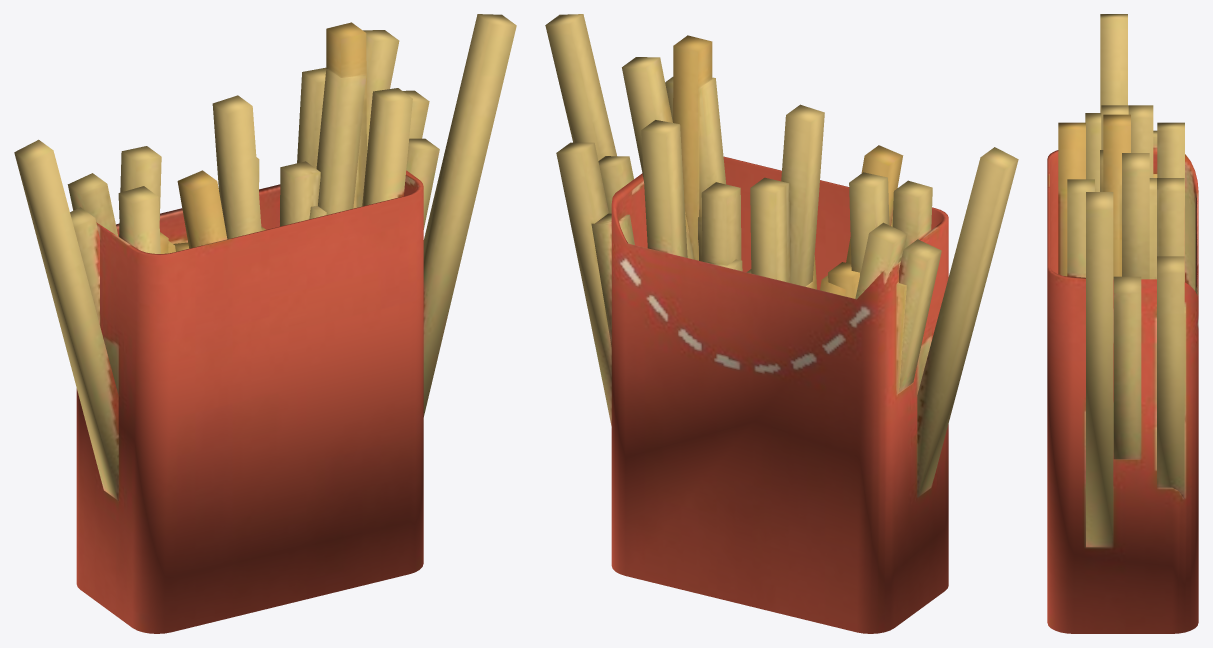
The model's file is fries_b1.glb.
3 renders of one model, left to right at view 1: azimuth 30°, elevation 25°; view 2: azimuth 150°, elevation 25°; view 3: azimuth 270°, elevation 25°, orthographic. The views are drawn at different scales.
Visible parts, largest first — view 1: prop_fries_b1_felt; view 2: prop_fries_b1_felt; view 3: prop_fries_b1_felt.
Boxes of the visible parts, box(x1,y1,x2,y2) form: prop_fries_b1_felt: box(14, 14, 516, 633); prop_fries_b1_felt: box(545, 14, 1018, 633); prop_fries_b1_felt: box(1047, 14, 1198, 633).
Size of the model in its own units: 0.1756 by 0.1826 by 0.051.
Materials: 1 (1 with a texture image).
